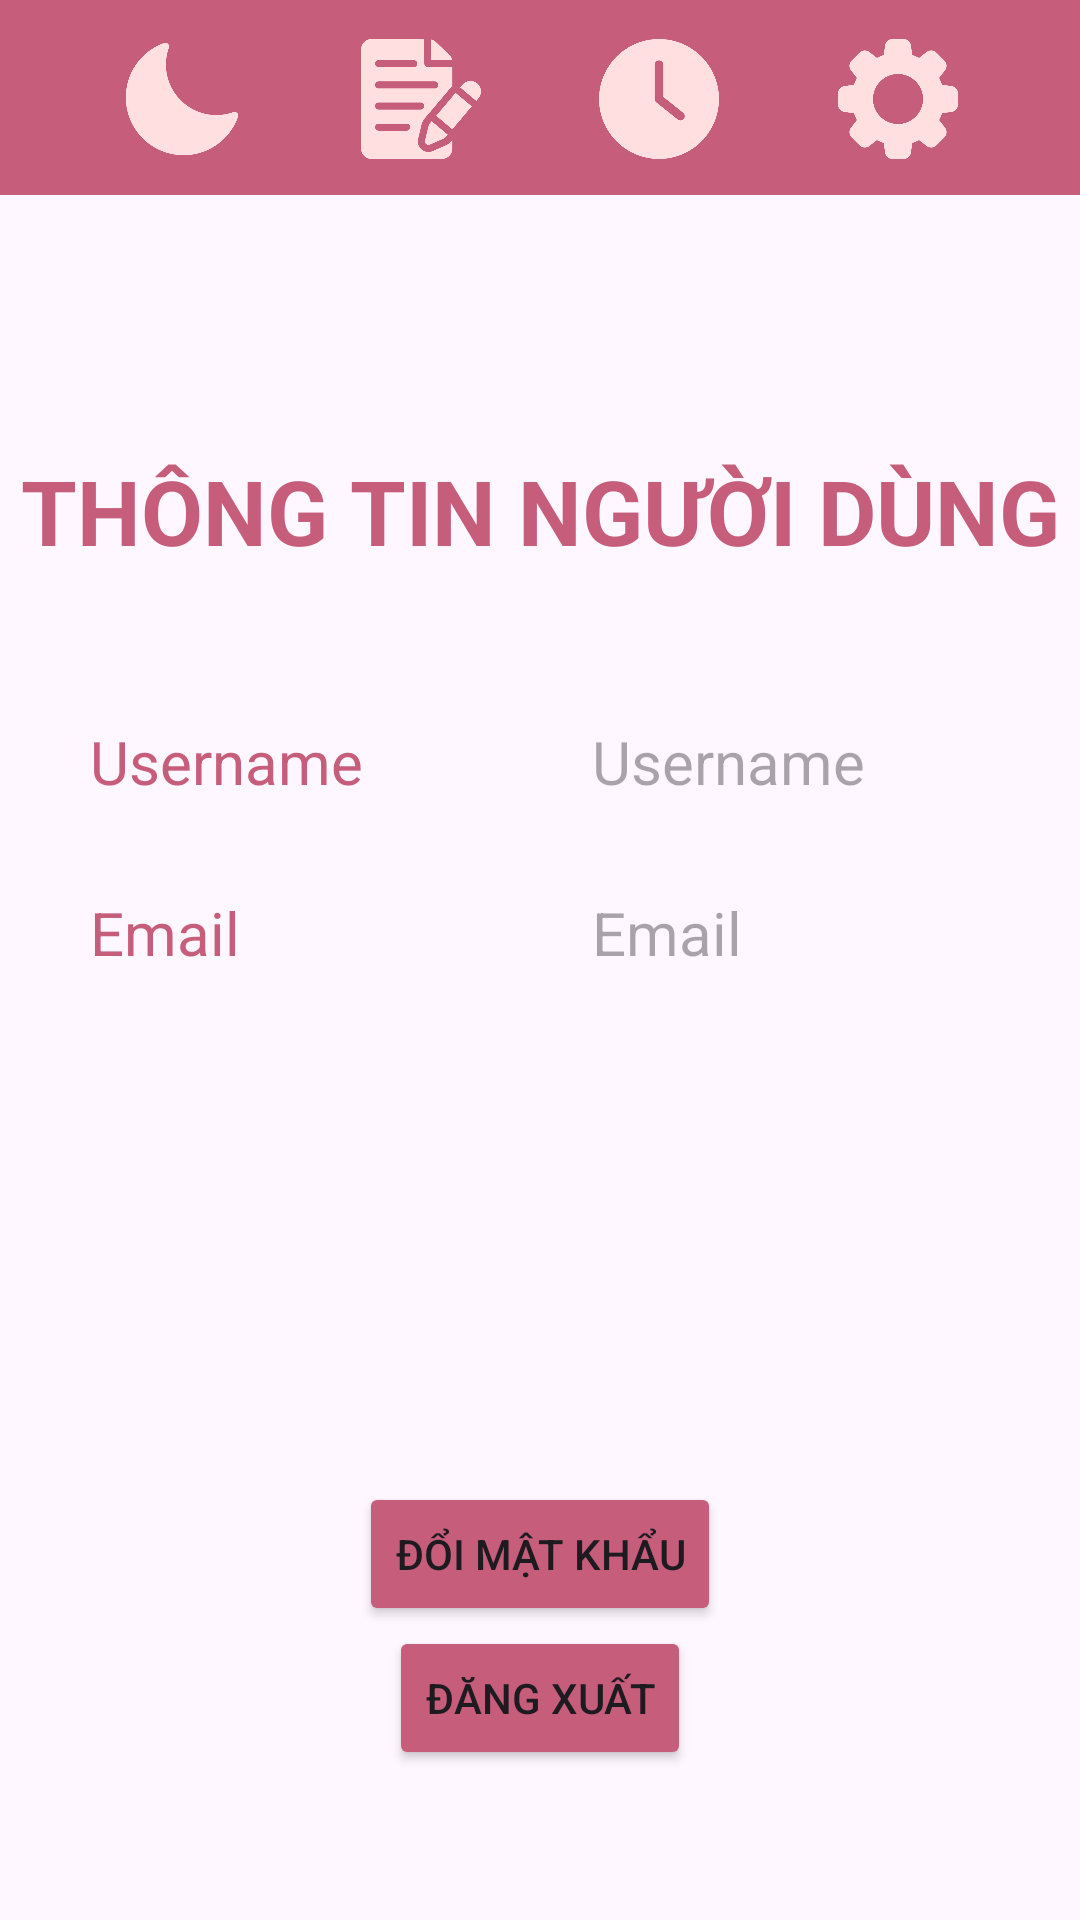

Icon bounding boxes for this 1080 × 1920 phone screenshot, format {"left": x1, "top": y1, "right": x2, "bottom": y2}:
nightmode: {"left": 126, "top": 43, "right": 238, "bottom": 155}
note: {"left": 361, "top": 39, "right": 481, "bottom": 159}
settings: {"left": 838, "top": 39, "right": 958, "bottom": 159}
